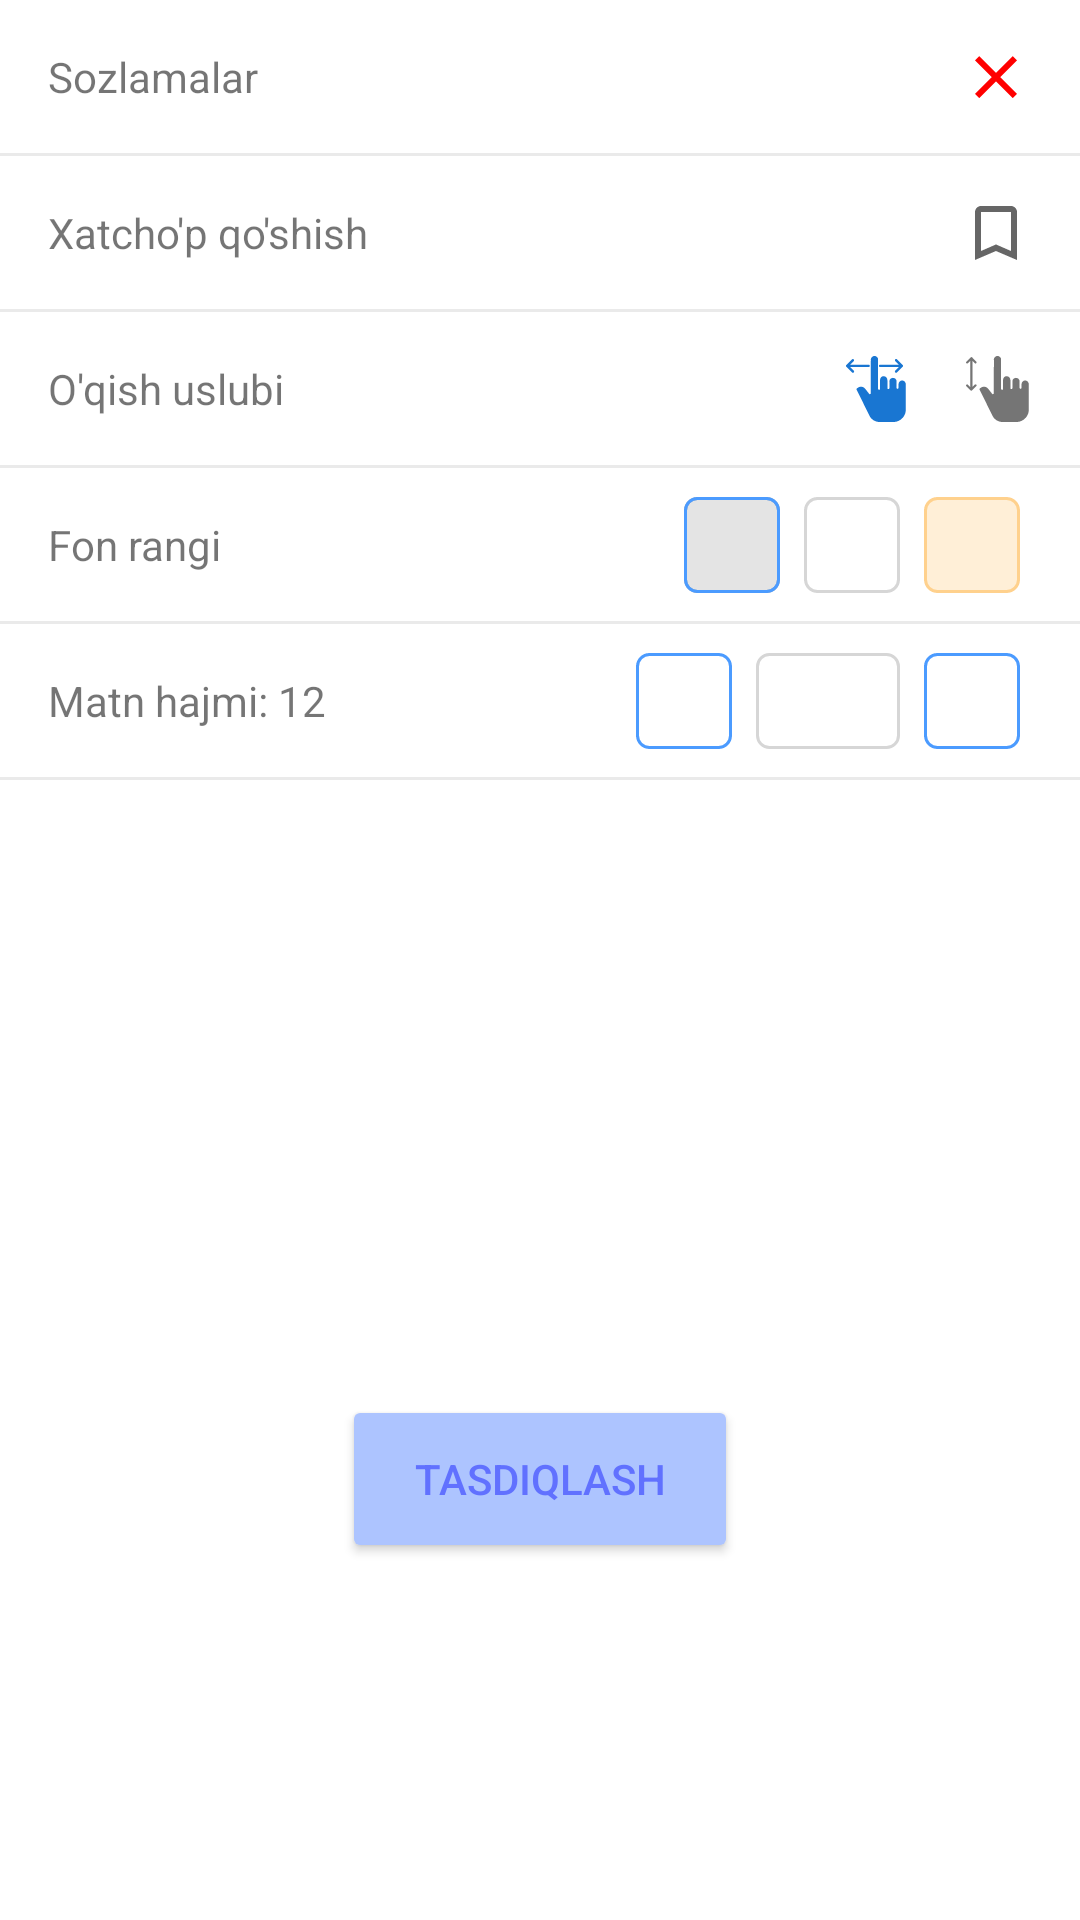

Icons on this 1080 x 1920 Android screen, each with its box as (x1, y1, x2, y2):
bookmark off: (975, 206, 1017, 260)
